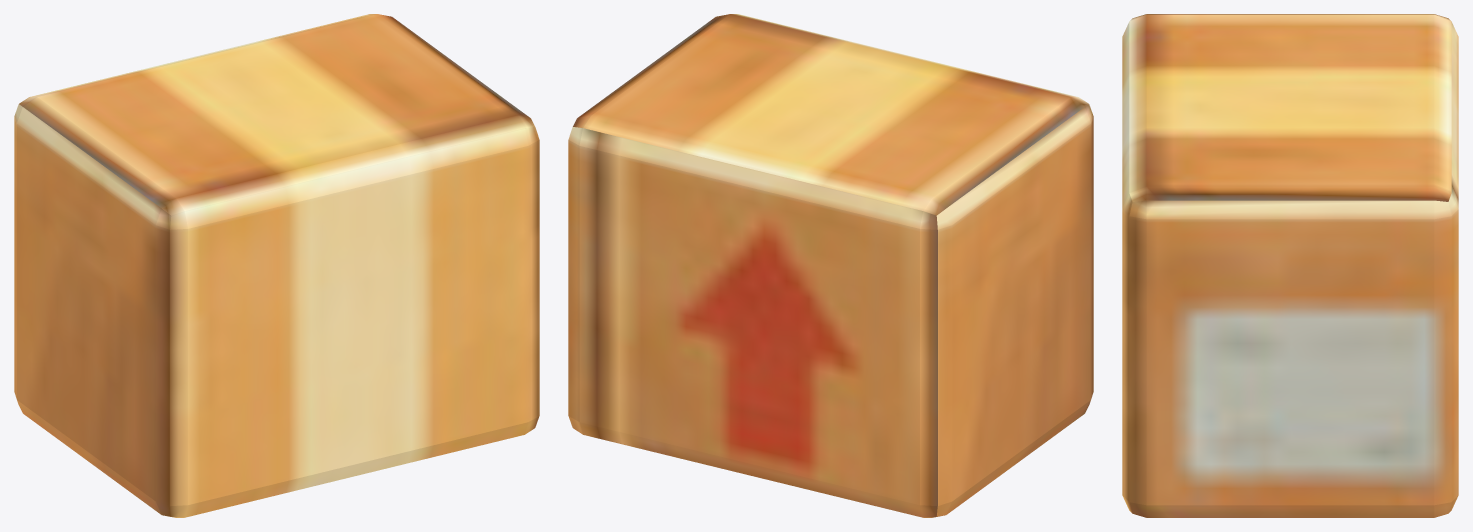
The model's file is parcel.glb.
3 renders of one model, left to right at view 1: azimuth 30°, elevation 25°; view 2: azimuth 150°, elevation 25°; view 3: azimuth 270°, elevation 25°, orthographic. The views are drawn at different scales.
Parts seen in each view (by area): view 1: parcel; view 2: parcel; view 3: parcel.
Part boxes in pixels (<box>): parcel: <box>14,14,539,517</box>; parcel: <box>568,14,1093,517</box>; parcel: <box>1122,14,1458,517</box>.
Bounding box in the file's own units: 0.65 × 0.52 × 0.48.
1 material, 1 textured.
